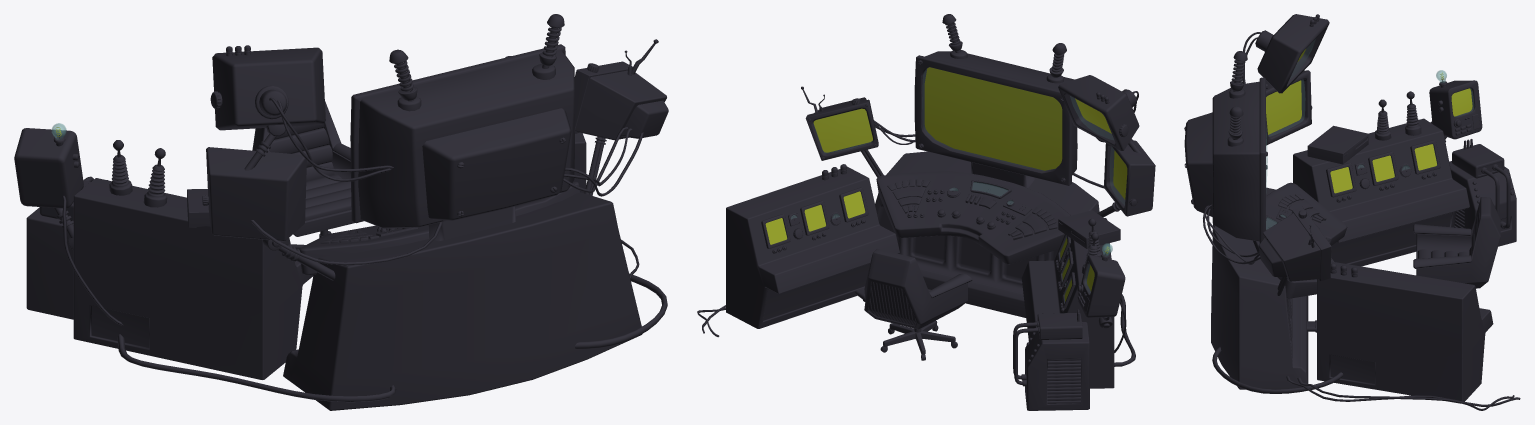
Rendered from DrMonstro_Podium.fbx.
3 renders of one model, left to right at view 1: azimuth 30°, elevation 25°; view 2: azimuth 150°, elevation 25°; view 3: azimuth 270°, elevation 25°, orthographic. The views are drawn at different scales.
Parts seen in each view (by area): view 1: main_console_base, monitor_frame, console (×2), monitor (×2), monitor1, chair, machinery, control_pad_chasis, console_table, cable12, cable, antenna_01 (+4 smaller); view 2: console (×2), main_monitor_glass, main_monitor_background, console_table, main_console_base, monitor_frame, machinery, monitor (×2), chair, control_pad_chasis, glass_screen1, screen_background1 (+8 smaller); view 3: console (×2), main_console_base, monitor_frame, chair, monitor (×2), machinery, monitor1, console_table, control_pad_chasis, VCR, glass_screen, screen_background (+13 smaller).
Boxes of the visible parts, x1=… form: main_console_base: x1=283, y1=192, x2=642, y2=410; monitor_frame: x1=350, y1=14, x2=574, y2=241; console (×2): x1=73, y1=56, x2=586, y2=379; monitor (×2): x1=202, y1=45, x2=325, y2=241; monitor1: x1=574, y1=61, x2=668, y2=140; chair: x1=252, y1=101, x2=354, y2=236; machinery: x1=26, y1=176, x2=107, y2=319; control_pad_chasis: x1=14, y1=128, x2=83, y2=208; console_table: x1=299, y1=181, x2=580, y2=274; cable12: x1=117, y1=334, x2=396, y2=402; cable: x1=575, y1=273, x2=667, y2=348; antenna_01: x1=143, y1=148, x2=167, y2=207; console (×2): x1=726, y1=164, x2=1114, y2=388; main_monitor_glass: x1=922, y1=68, x2=1061, y2=170; main_monitor_background: x1=924, y1=67, x2=1062, y2=170; console_table: x1=876, y1=171, x2=1070, y2=264; main_console_base: x1=875, y1=151, x2=1099, y2=317; monitor_frame: x1=914, y1=14, x2=1077, y2=187; machinery: x1=1013, y1=309, x2=1089, y2=410; monitor (×2): x1=1058, y1=75, x2=1155, y2=216; chair: x1=864, y1=249, x2=972, y2=329; control_pad_chasis: x1=1078, y1=255, x2=1125, y2=317; glass_screen1: x1=814, y1=109, x2=872, y2=153; screen_background1: x1=813, y1=108, x2=872, y2=152; console (×2): x1=1293, y1=118, x2=1493, y2=403; main_console_base: x1=1211, y1=187, x2=1308, y2=389; monitor_frame: x1=1184, y1=51, x2=1267, y2=243; chair: x1=1413, y1=197, x2=1500, y2=288; monitor (×2): x1=1255, y1=14, x2=1329, y2=145; machinery: x1=1449, y1=139, x2=1516, y2=246; monitor1: x1=1258, y1=206, x2=1331, y2=281; console_table: x1=1253, y1=182, x2=1347, y2=298; control_pad_chasis: x1=1429, y1=80, x2=1482, y2=139; VCR: x1=1307, y1=125, x2=1368, y2=164; glass_screen: x1=1266, y1=80, x2=1304, y2=136; screen_background: x1=1266, y1=80, x2=1301, y2=134.
Size of the model in its own units: 1446 by 834 by 1012.
